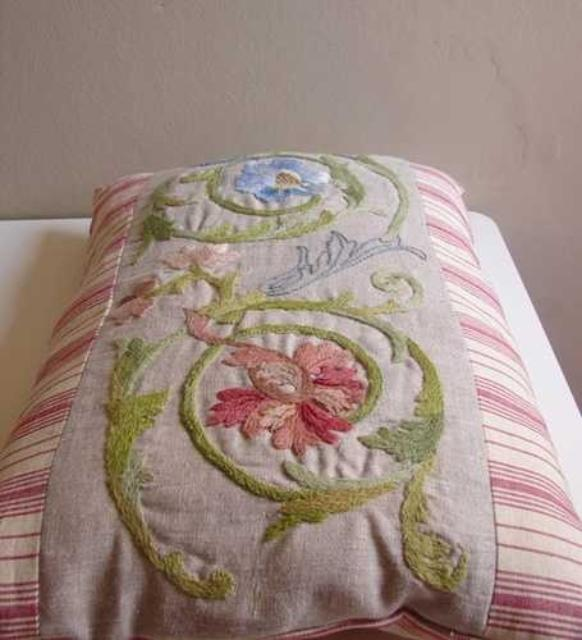pillow: (0, 150, 582, 638)
